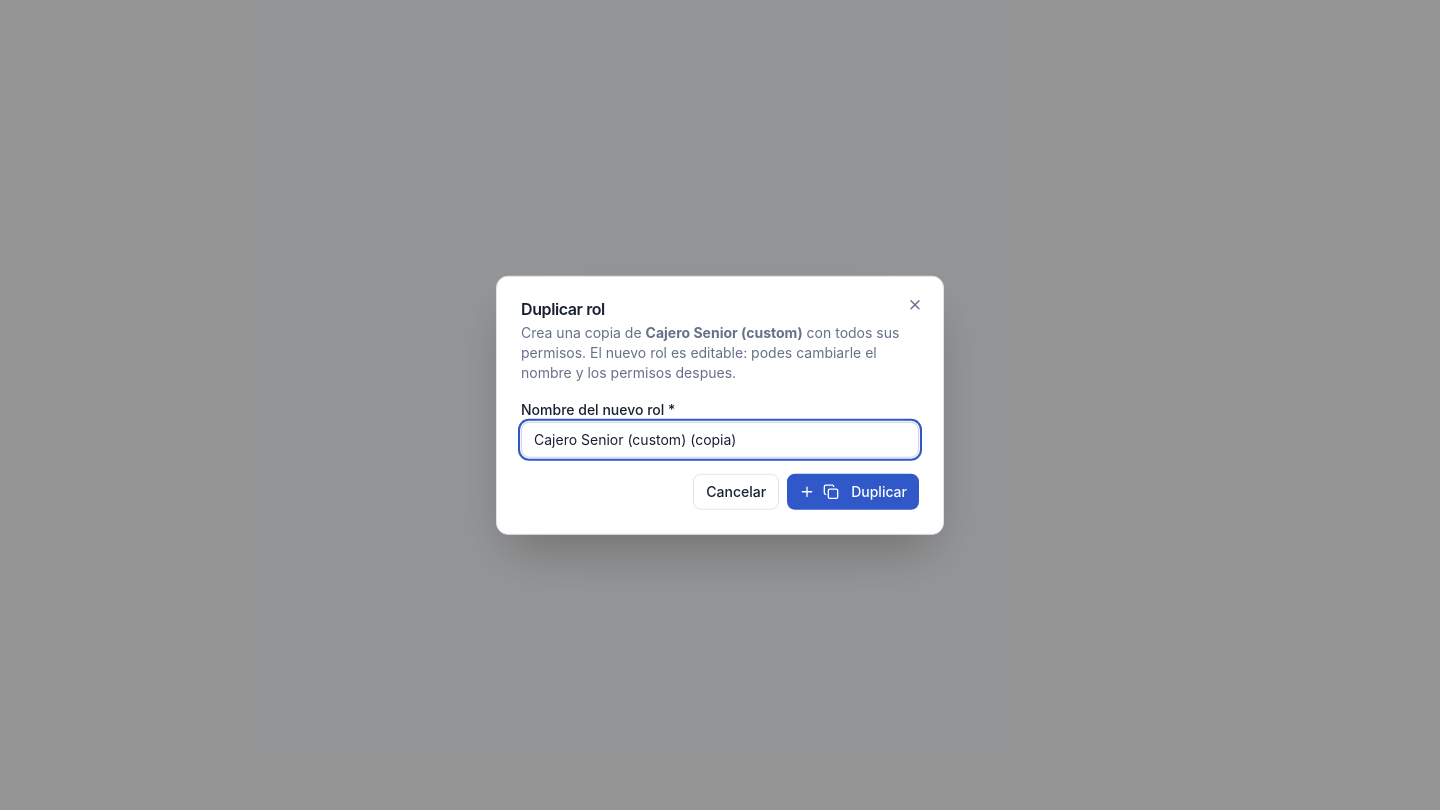
Test case: DuplicateRoleDialog › muestra error si el nombre esta vacio
The width and height of the screenshot is (1440, 810).
Clear the field with test id "duplicate-role-name" at (720, 439), box [521, 421, 919, 457]
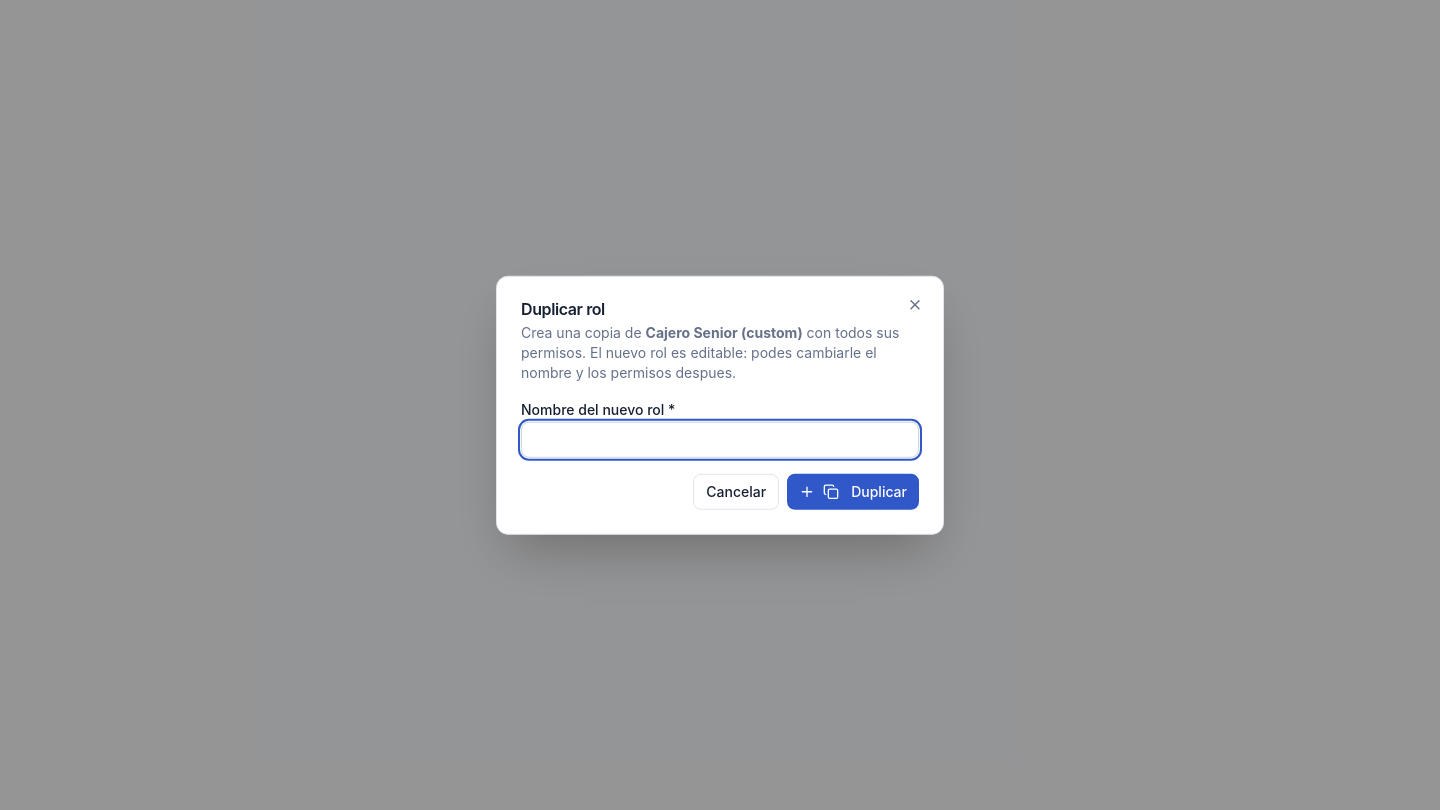
Click the button with test id "duplicate-role-submit" at (853, 491), box [787, 473, 919, 509]
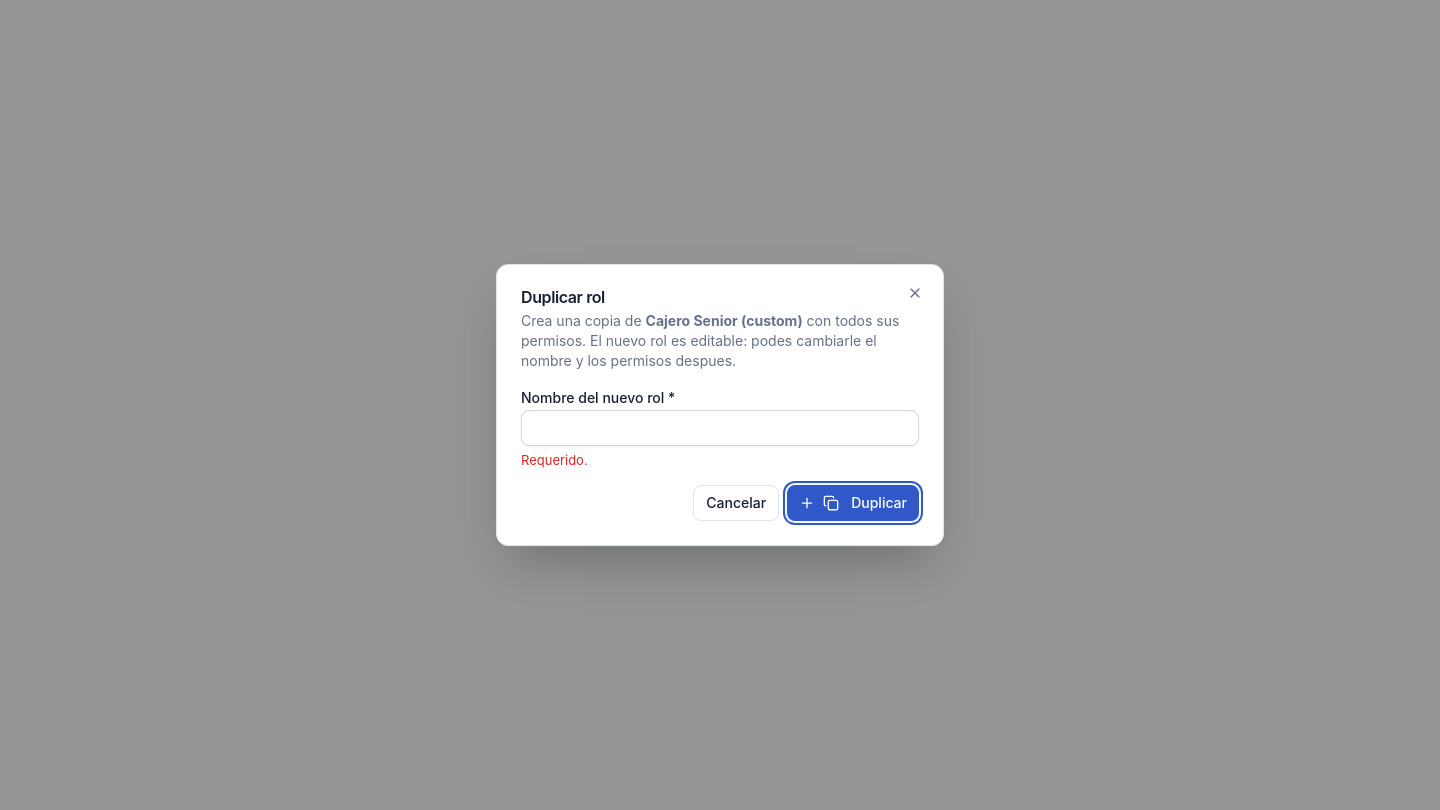
Expected: the text "Requerido." is shown, [521, 452, 588, 468]
